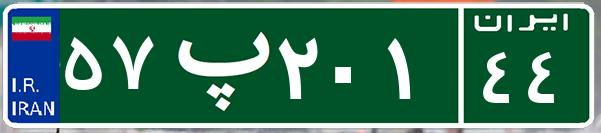0: (330, 28, 385, 110)
1: (385, 28, 445, 110)
2: (273, 28, 330, 110)
4: (475, 38, 525, 113), (525, 38, 570, 115)
5: (57, 26, 110, 107)
7: (110, 28, 158, 105)
پ: (158, 15, 273, 115)
